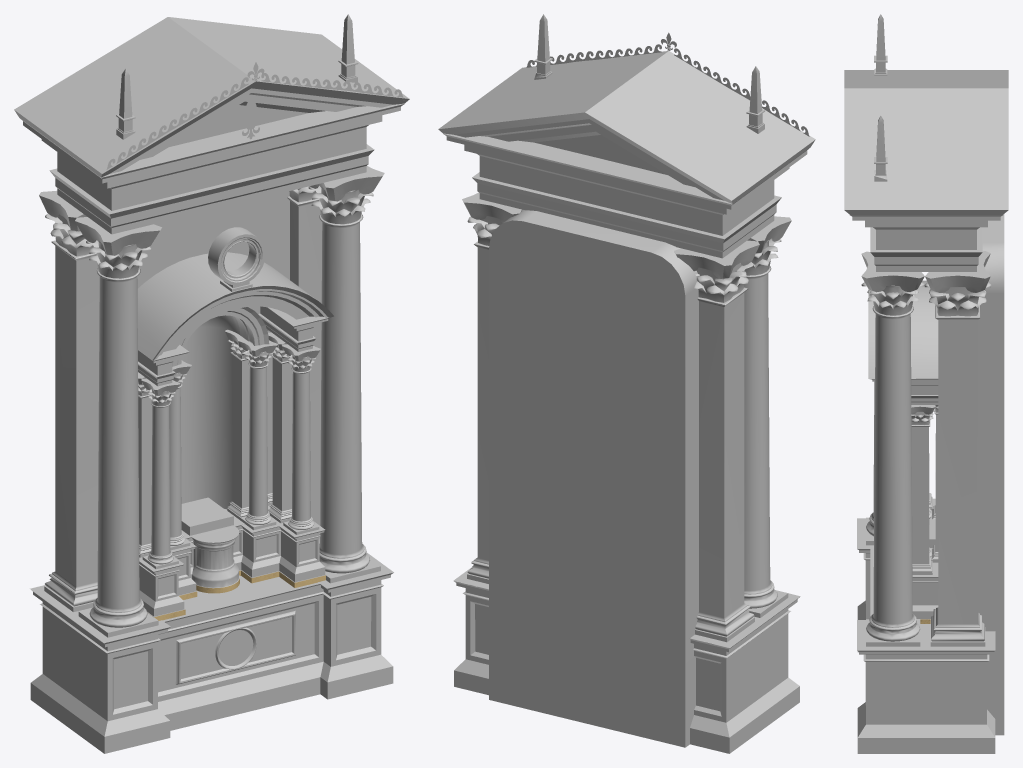
The model's file is Composite_Ultimate.fbx.
The picture shows the model from 3 angles, left to right: view 1: azimuth 30°, elevation 25°; view 2: azimuth 150°, elevation 25°; view 3: azimuth 270°, elevation 25°; orthographic projection. The views are drawn at different scales.
Parts seen in each view (by area): view 1: Composite_Ultimate; view 2: Composite_Ultimate; view 3: Composite_Ultimate.
Boxes of the visible parts, box(x1,y1,x2,y2) form: Composite_Ultimate: box(14, 14, 409, 753); Composite_Ultimate: box(438, 14, 815, 753); Composite_Ultimate: box(844, 14, 1008, 753).
Bounding box in the file's own units: 420 × 871 × 208.
